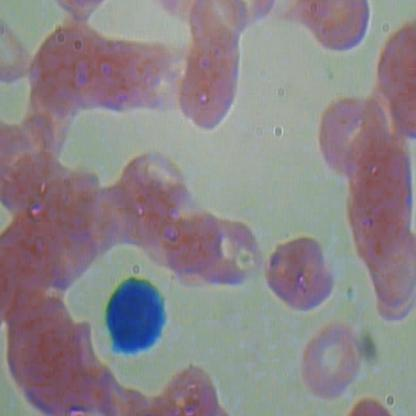RBC: (27, 22, 106, 121), (176, 31, 244, 136), (349, 132, 415, 238), (312, 97, 392, 183), (188, 215, 260, 297), (266, 233, 336, 315), (294, 324, 366, 402), (3, 155, 75, 228), (282, 1, 376, 55), (118, 38, 176, 118), (364, 230, 416, 308), (184, 1, 248, 61), (89, 186, 144, 255)
WBC: (95, 272, 171, 364)
